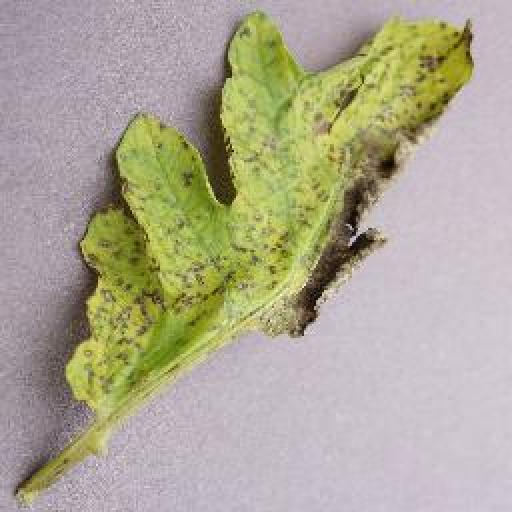disease_tomato: (63, 11, 476, 413)
